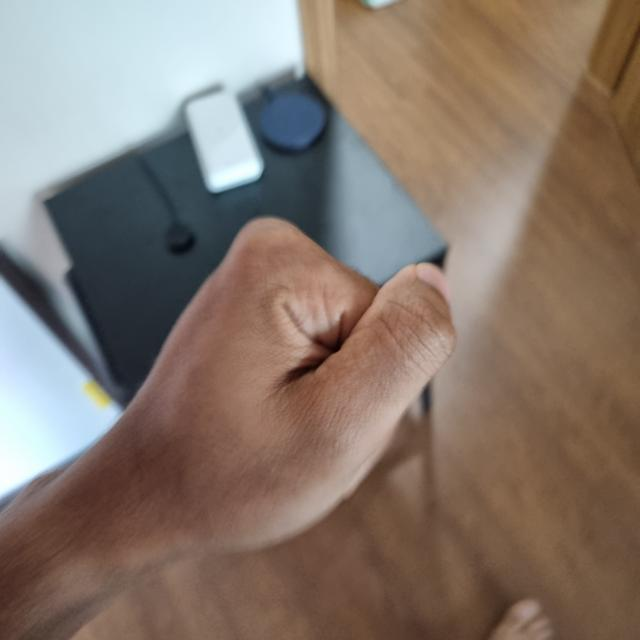Rock: (89, 218, 452, 551)
